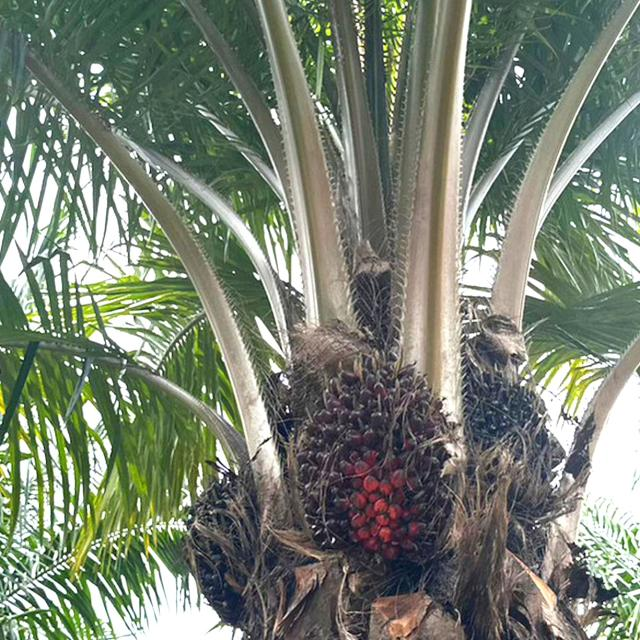ripe: (280, 328, 474, 594)
